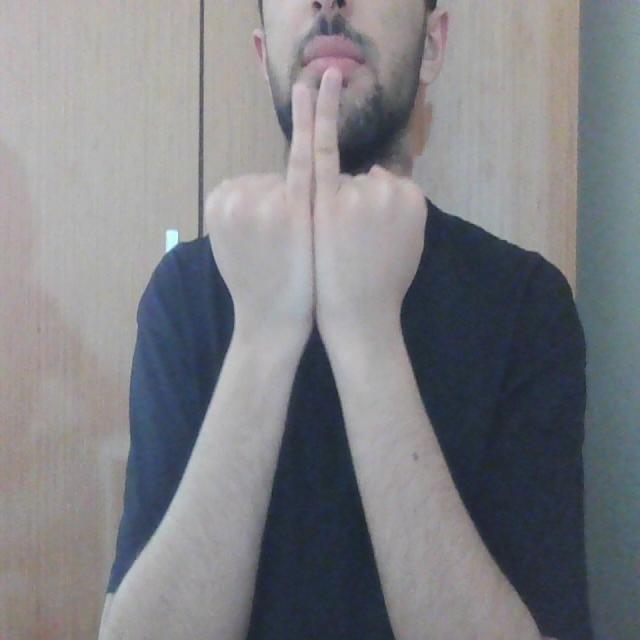Kardes: (199, 56, 431, 339)
